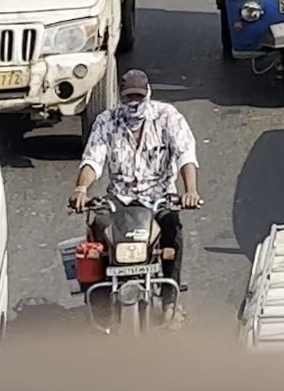BikeWithRider: (53, 66, 210, 356)
NoHelmet: (111, 67, 157, 123)
